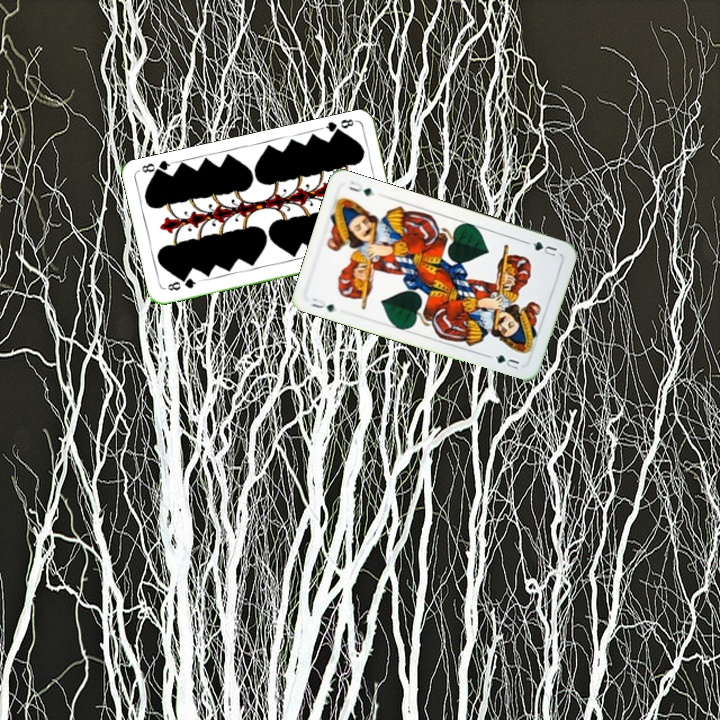G8: (319, 115, 359, 138), (163, 274, 202, 293)
GU: (307, 294, 340, 315), (528, 237, 560, 258)
